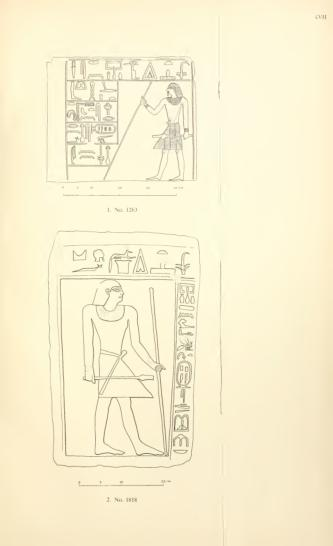circle: (175, 360, 194, 388)
